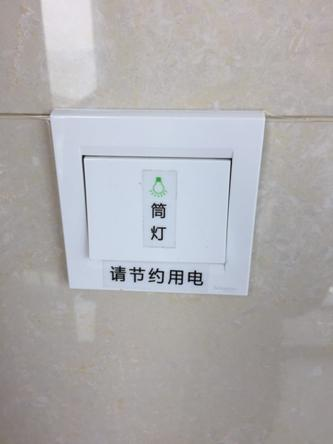switch: (81, 154, 233, 266)
